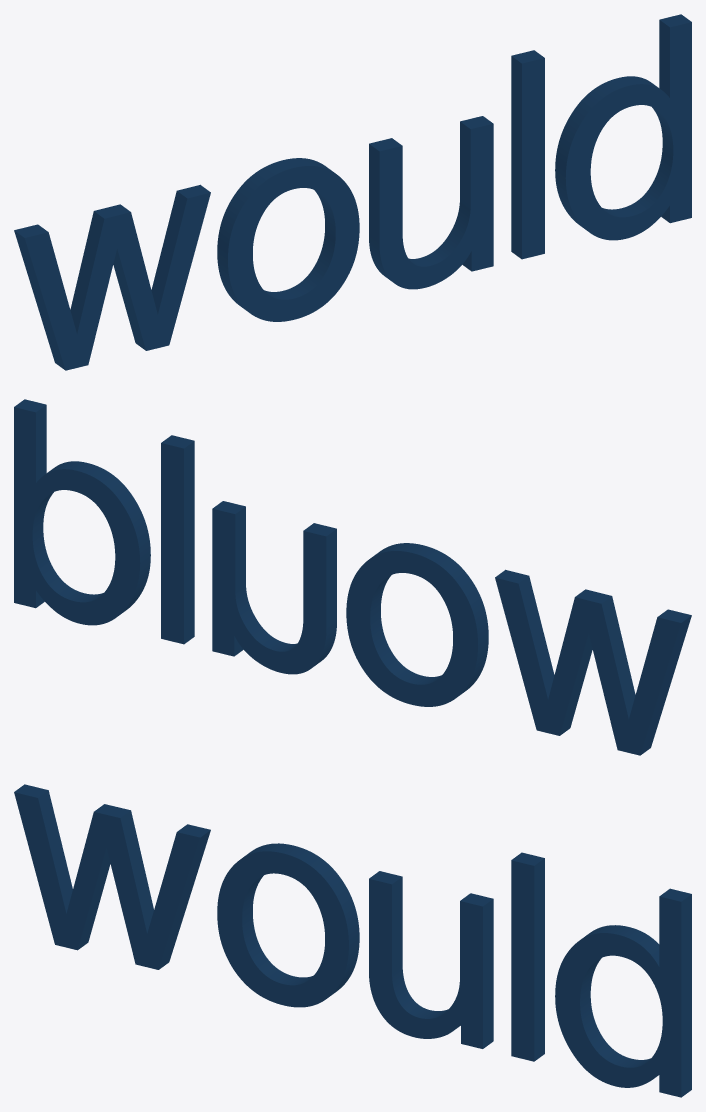
Rendered from would.gltf.
The picture shows the model from 3 angles, top to bottom: view 1: azimuth 30°, elevation 25°; view 2: azimuth 150°, elevation 25°; view 3: azimuth 330°, elevation 25°; orthographic projection.
Bounding box in the file's own units: 3.61 × 1.04 × 0.1.
